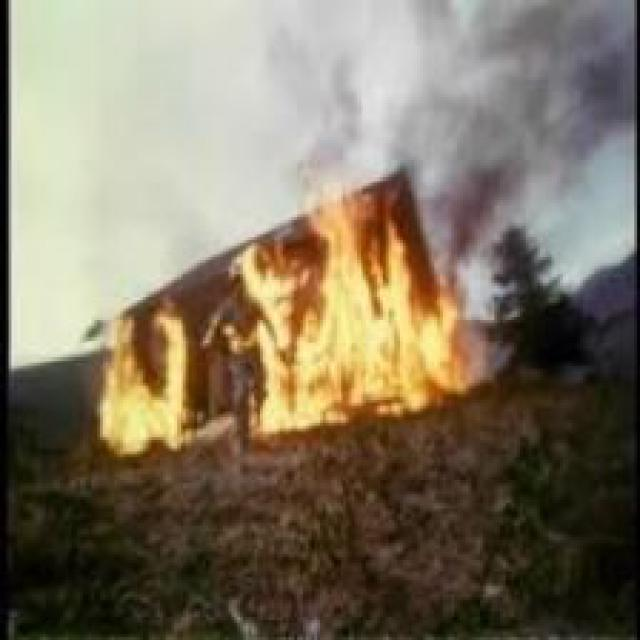fire: (226, 163, 483, 437), (80, 288, 197, 466)
